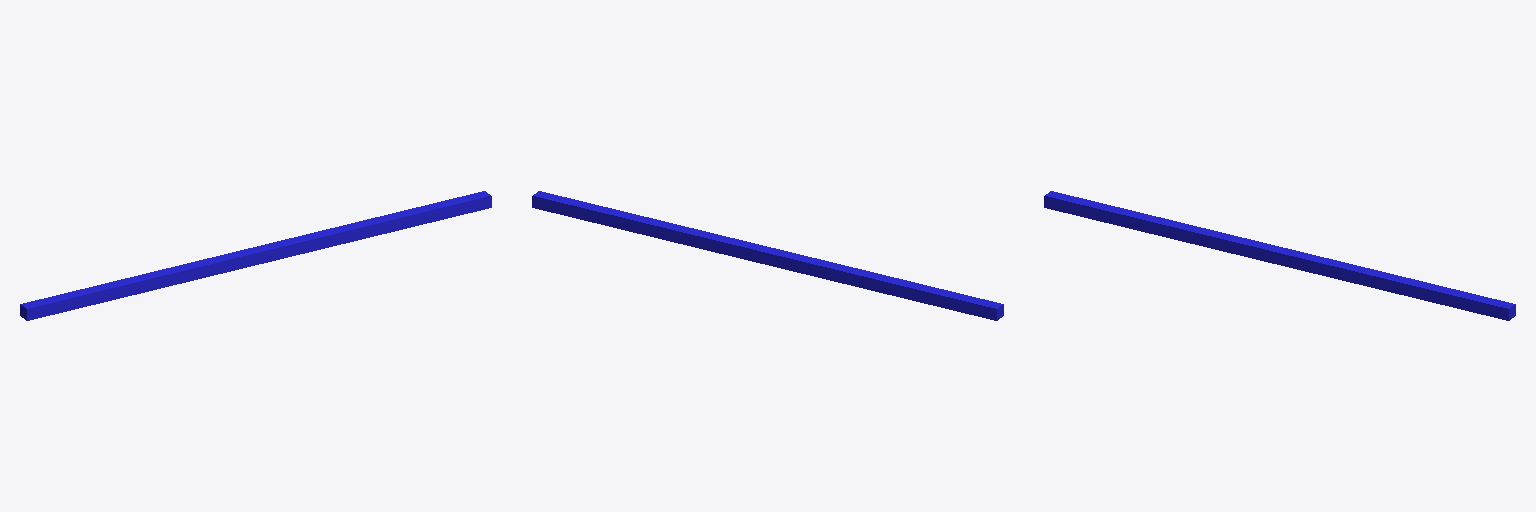
URDF robot description (MonkeyBar4):
<?xml version="1.0" ?>

<robot name="MonkeyBar4">
  <material name="Blue">
    <color rgba="0.2 0.2 0.9 1.0"/>
  </material>
  <material name="Green">
    <color rgba="0.2 0.9 0.2 1.0"/>
  </material>
  <material name="Red">
    <color rgba="0.9 0.2 0.2 1.0"/>
  </material>

  <link name="bar">
    <inertial>
      <mass value="0"/>
      <inertia ixx="0" ixy="0" ixz="0" iyy="0" iyz="0" izz="0"/>
      <origin xyz="0 0 0"/>
    </inertial>

    <visual>
      <geometry>
        <box size = "2 0.05 0.05"/>
	<!--<cylinder length="2" radius="0.05"/>-->
      </geometry>
      <material name="Blue"/>
    </visual>

    <collision group="monkeybar4">
      <geometry>
        <box size = "2 0.05 0.05"/>
      </geometry>
    </collision>
  </link>
</robot>

--- What the picture shows (computed from the rendered views, not written in the file) ---
The picture shows the robot from 3 angles, left to right: view 1: azimuth 30°, elevation 25°; view 2: azimuth 150°, elevation 25°; view 3: azimuth 330°, elevation 25°; orthographic projection.
Robot: MonkeyBar4 — 1 links, 0 joints (none); root link bar; default pose: every joint at zero.
Links seen in each view (by area): view 1: bar; view 2: bar; view 3: bar.
Boxes of the visible links, left/top/right/bottom form: bar: left=20, top=191, right=491, bottom=320; bar: left=532, top=191, right=1003, bottom=320; bar: left=1044, top=191, right=1515, bottom=320.
Size in the robot's own frame: 2 by 0.05 by 0.05 metres.
Geometry: primitives only (box / cylinder / sphere), no mesh files.
